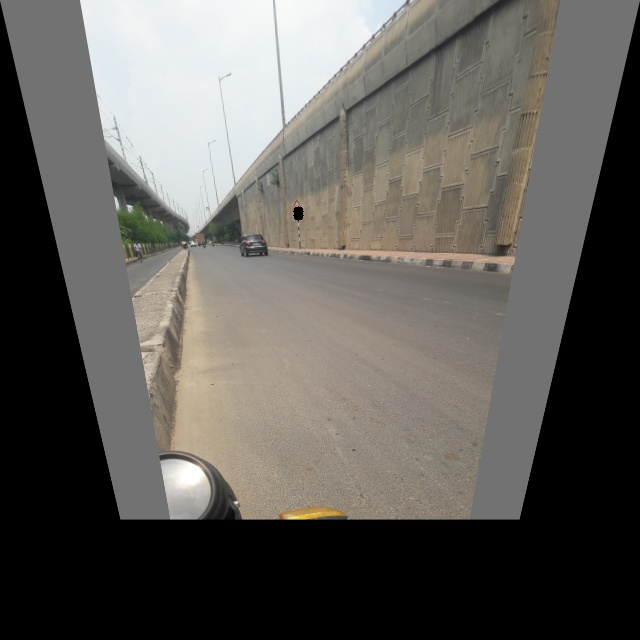Round_About: (284, 193, 308, 218)
